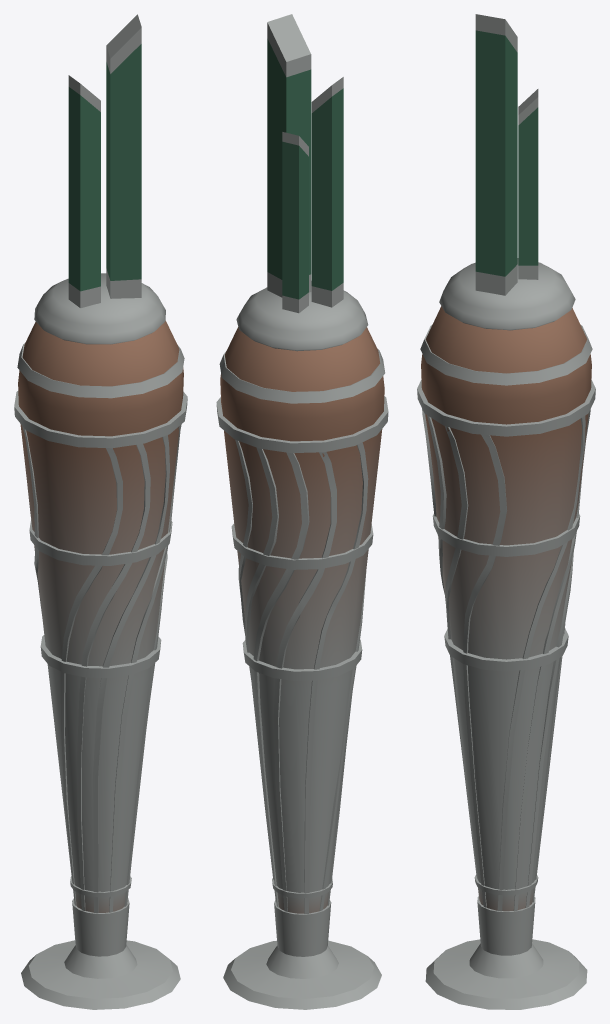
3 views of the same model, side by side, from view 1: azimuth 30°, elevation 25°; view 2: azimuth 150°, elevation 25°; view 3: azimuth 270°, elevation 25° (orthographic). The views are drawn at different scales.
Parts seen in each view (by area): view 1: G:\FFXIV-MapTools\exports\u5f1\bg\ex4\04_uvs_u5\fld\u5f1\bgp (×5); view 2: G:\FFXIV-MapTools\exports\u5f1\bg\ex4\04_uvs_u5\fld\u5f1\bgp (×5); view 3: G:\FFXIV-MapTools\exports\u5f1\bg\ex4\04_uvs_u5\fld\u5f1\bgp (×5).
Boxes of the visible parts, bbox=[...] form: G:\FFXIV-MapTools\exports\u5f1\bg\ex4\04_uvs_u5\fld\u5f1\bgp (×5): bbox=[14, 14, 187, 1009]; G:\FFXIV-MapTools\exports\u5f1\bg\ex4\04_uvs_u5\fld\u5f1\bgp (×5): bbox=[216, 14, 388, 1009]; G:\FFXIV-MapTools\exports\u5f1\bg\ex4\04_uvs_u5\fld\u5f1\bgp (×5): bbox=[417, 14, 595, 1009].
Bounding box in the file's own units: 1.12 × 6.74 × 1.12.
